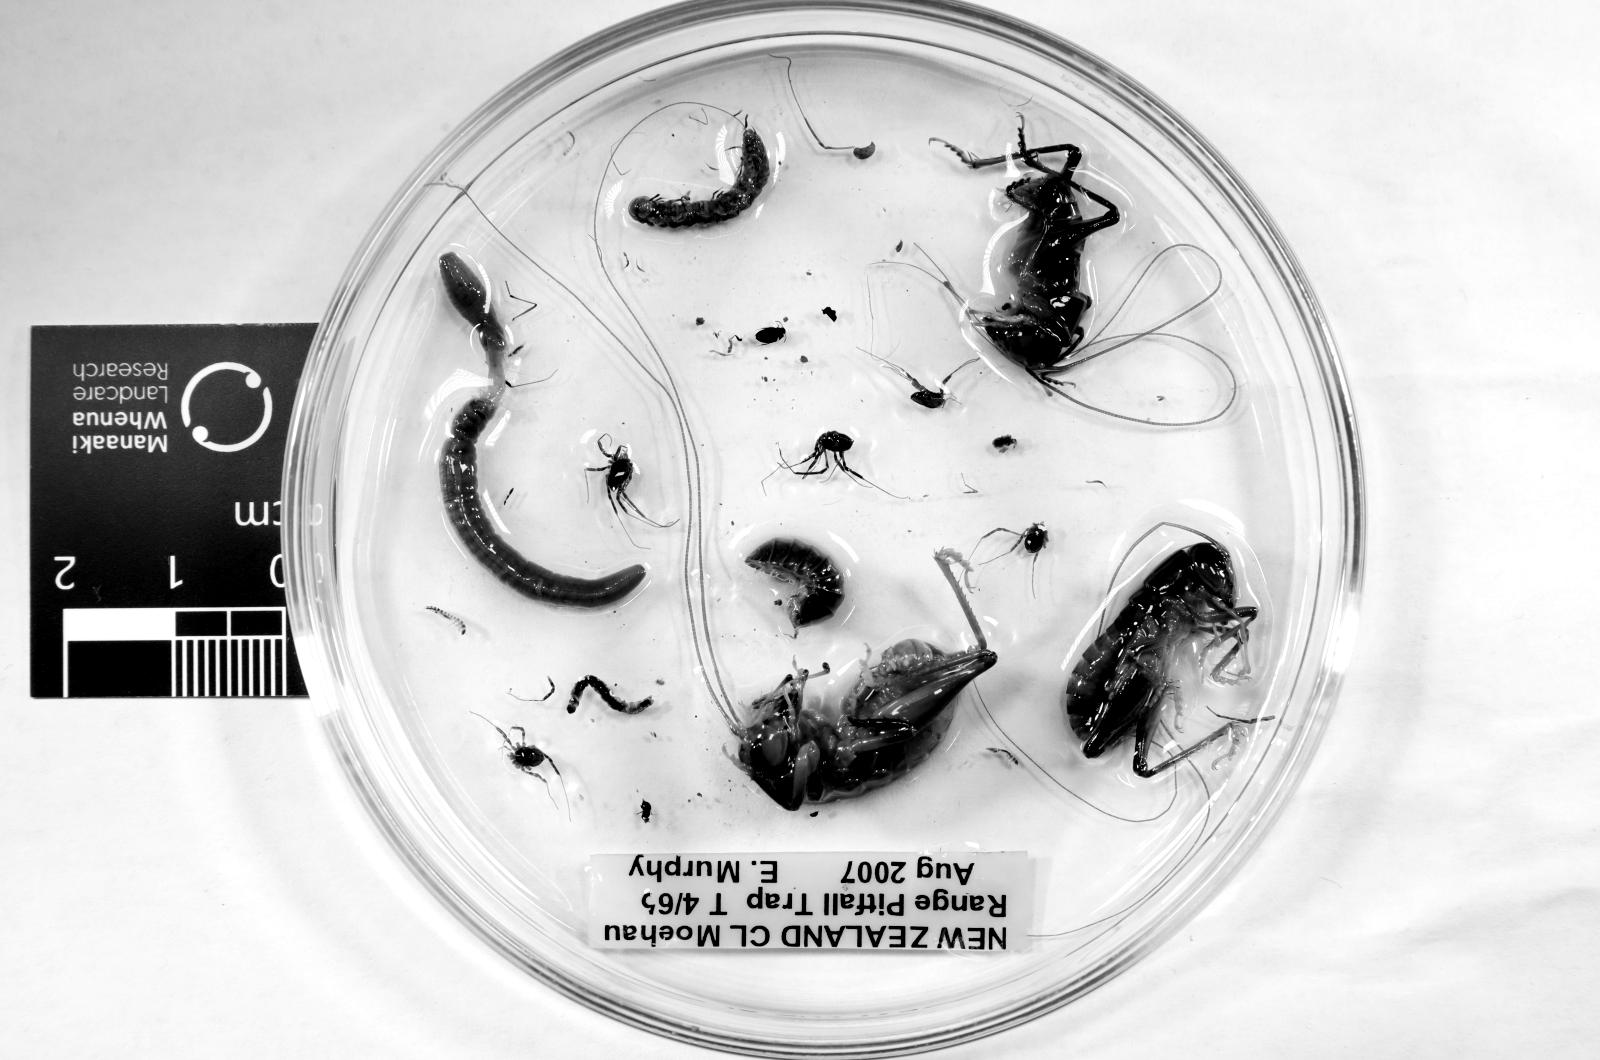annelida: (441, 252, 647, 608)
coleoptera: (757, 327, 784, 344)
diplopoda: (628, 124, 769, 230)
isopoda: (747, 537, 843, 627)
opiliones: (588, 438, 650, 522), (782, 432, 866, 481), (497, 726, 553, 780), (982, 522, 1050, 558), (903, 373, 953, 409)
orthoptera: (738, 550, 997, 810), (1065, 541, 1256, 776), (972, 121, 1119, 376)
